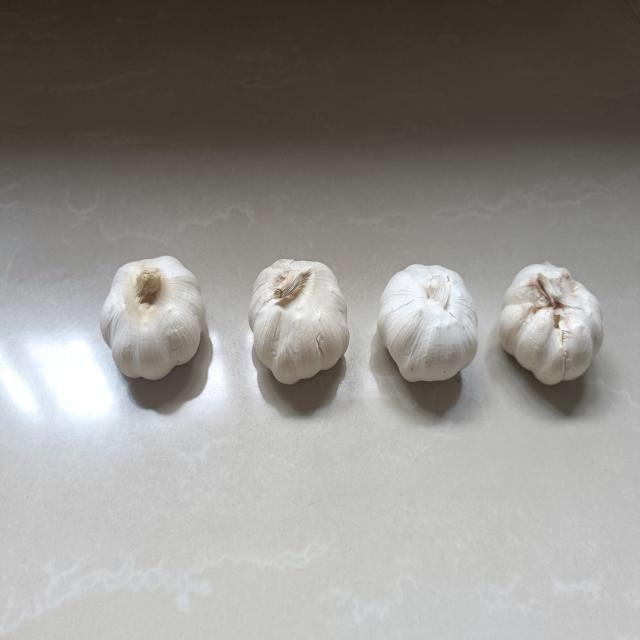garlic: (92, 248, 208, 389), (498, 259, 609, 391), (375, 258, 480, 397), (246, 255, 354, 389)
